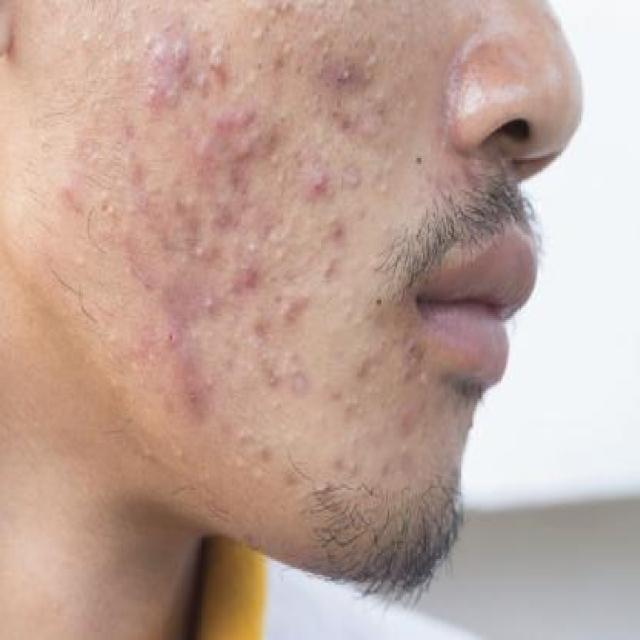acne: (303, 160, 337, 202), (228, 130, 266, 166), (234, 260, 268, 294), (230, 102, 264, 128), (203, 104, 231, 134), (238, 236, 271, 260), (186, 237, 216, 263), (204, 47, 234, 73), (169, 36, 189, 70), (410, 146, 432, 174), (200, 292, 223, 318), (364, 294, 390, 316), (336, 65, 358, 91), (343, 454, 366, 478)
